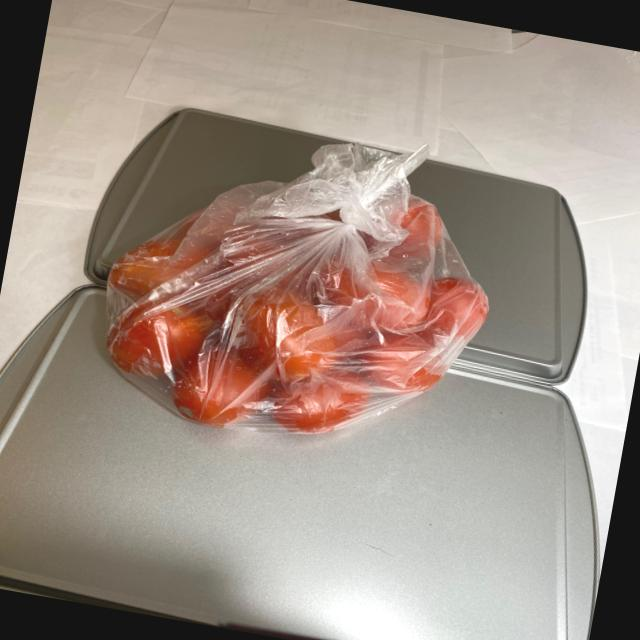tomato: (85, 151, 501, 479)
